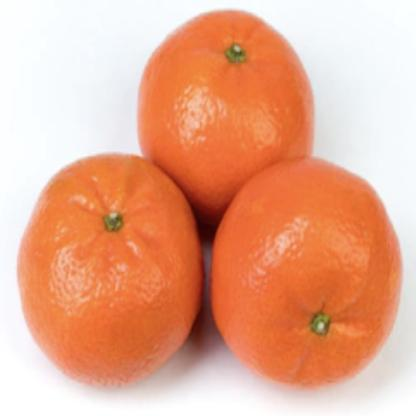fresh: (20, 8, 403, 394)
